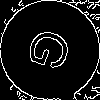G: (25, 25, 82, 78)
